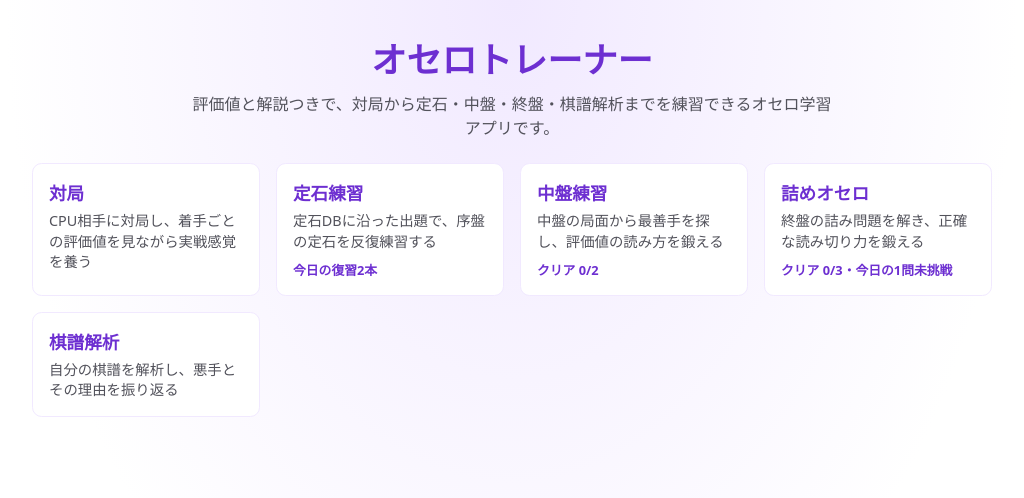
Test case: T137要件4: ホーム画面のモードカード進捗行 › モードでクリアしてホームへ戻ると実績行の数値が更新される(古いまま残らない)
The image size is (1024, 498).
Click the button with class "title-screen__card" that starts with "中盤練習".
click(634, 229)  # box top-left (520, 163), bottom-right (748, 296)
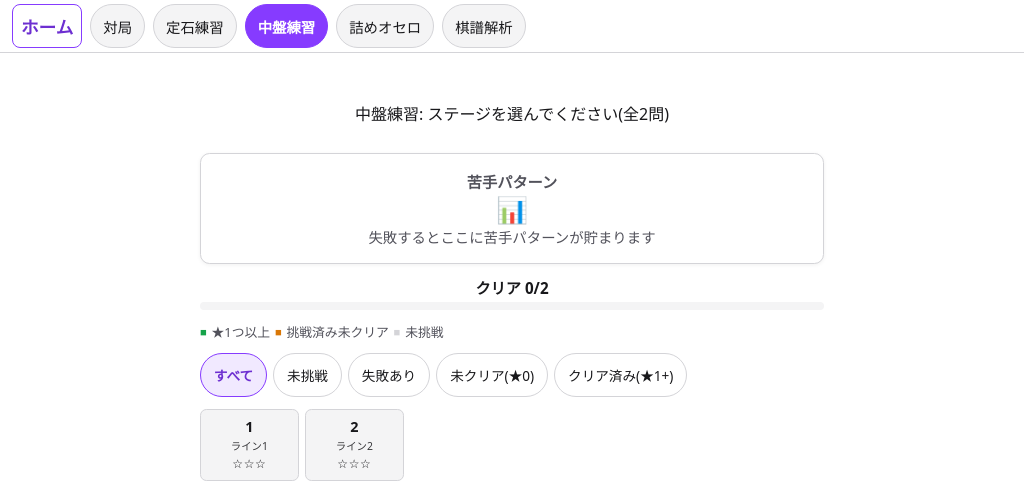
Now the text with class "title-screen__card-progress" is gone
Click the button "ホーム".
click(47, 26)  # box top-left (12, 4), bottom-right (82, 48)
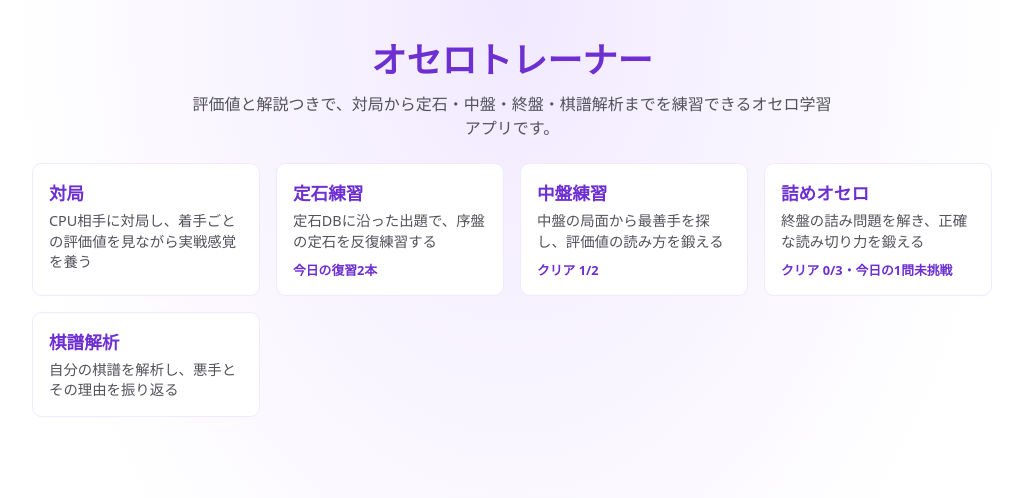
Now the text with class "title-screen__card-progress" reads "クリア 1/2", box top-left (537, 261), bottom-right (599, 279)
